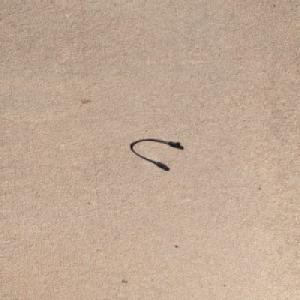Wire: (129, 137, 183, 169)
